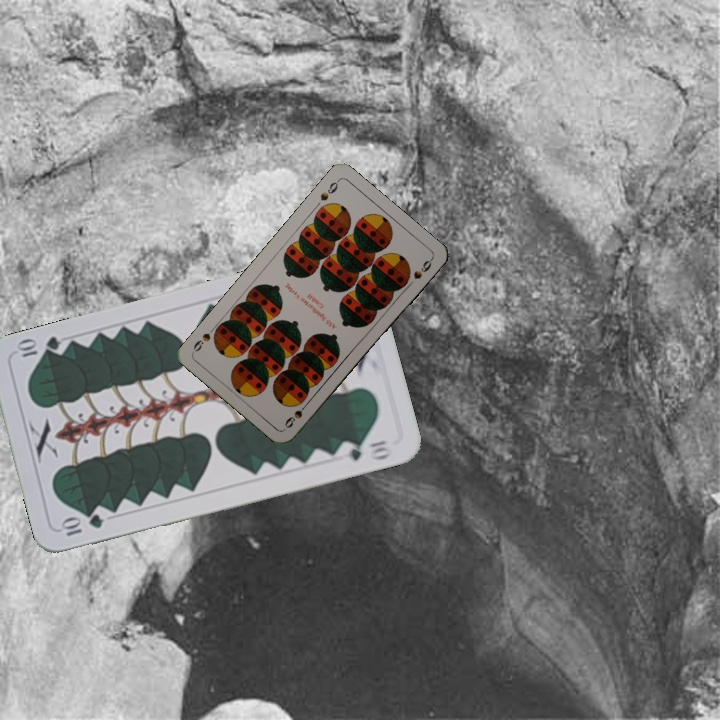G10: (57, 510, 106, 539)
S9: (280, 397, 312, 431), (316, 176, 341, 203)
